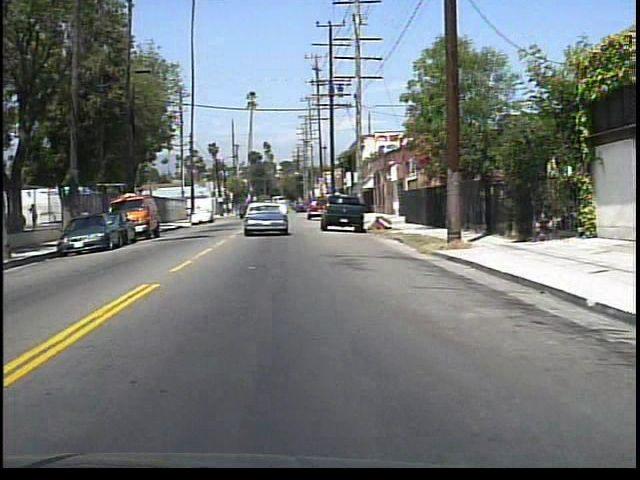person: (29, 202, 42, 231)
